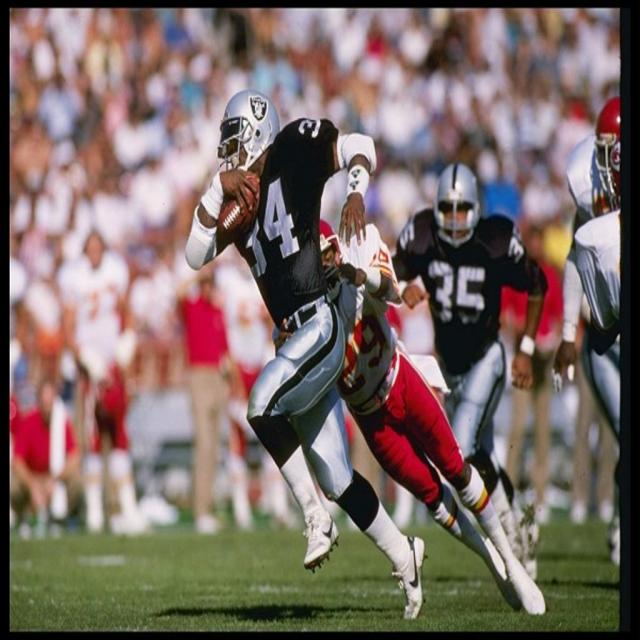nomask: (221, 131, 259, 193), (434, 191, 475, 244)
